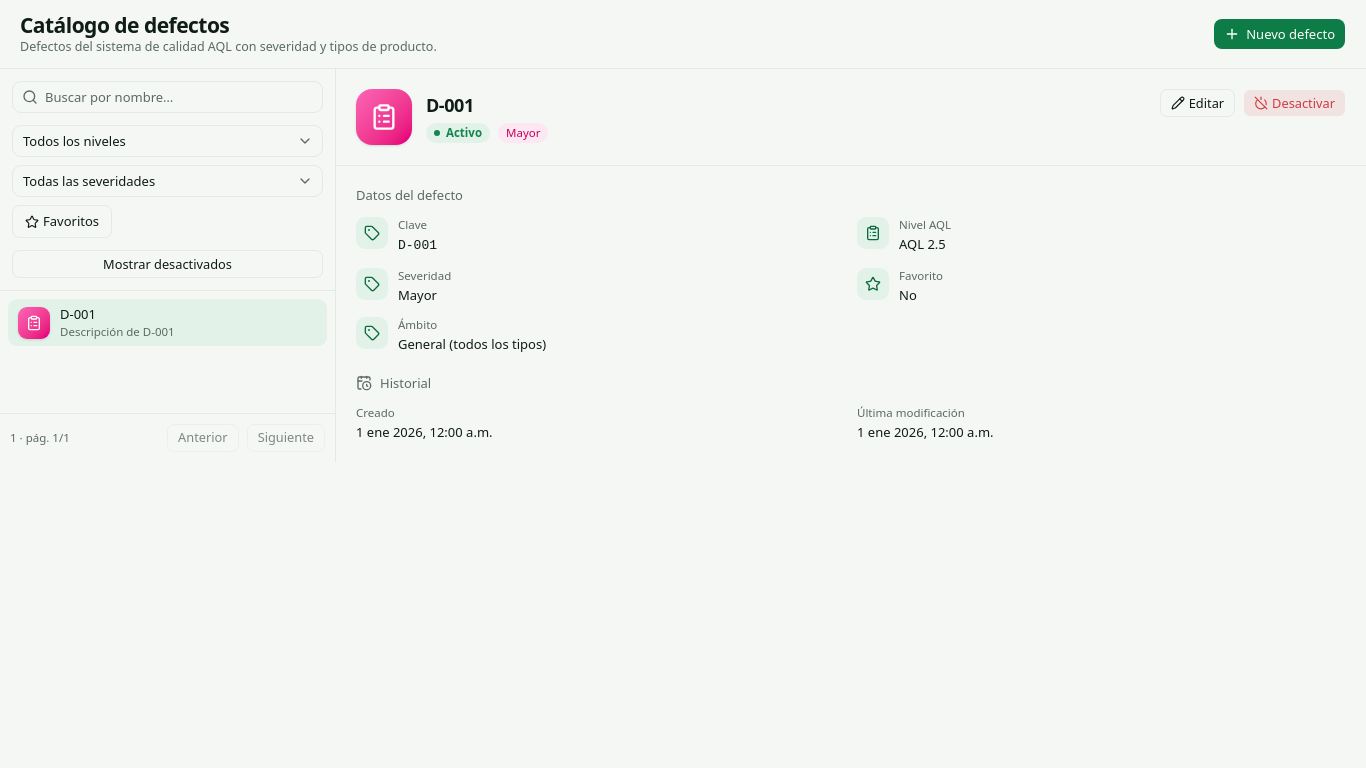
Scenario: DefectosPagina › el botón Nuevo defecto abre el diálogo
Click the button with test id "nuevo-defecto". click: point(1280, 34)
box: [1213,18,1346,50]
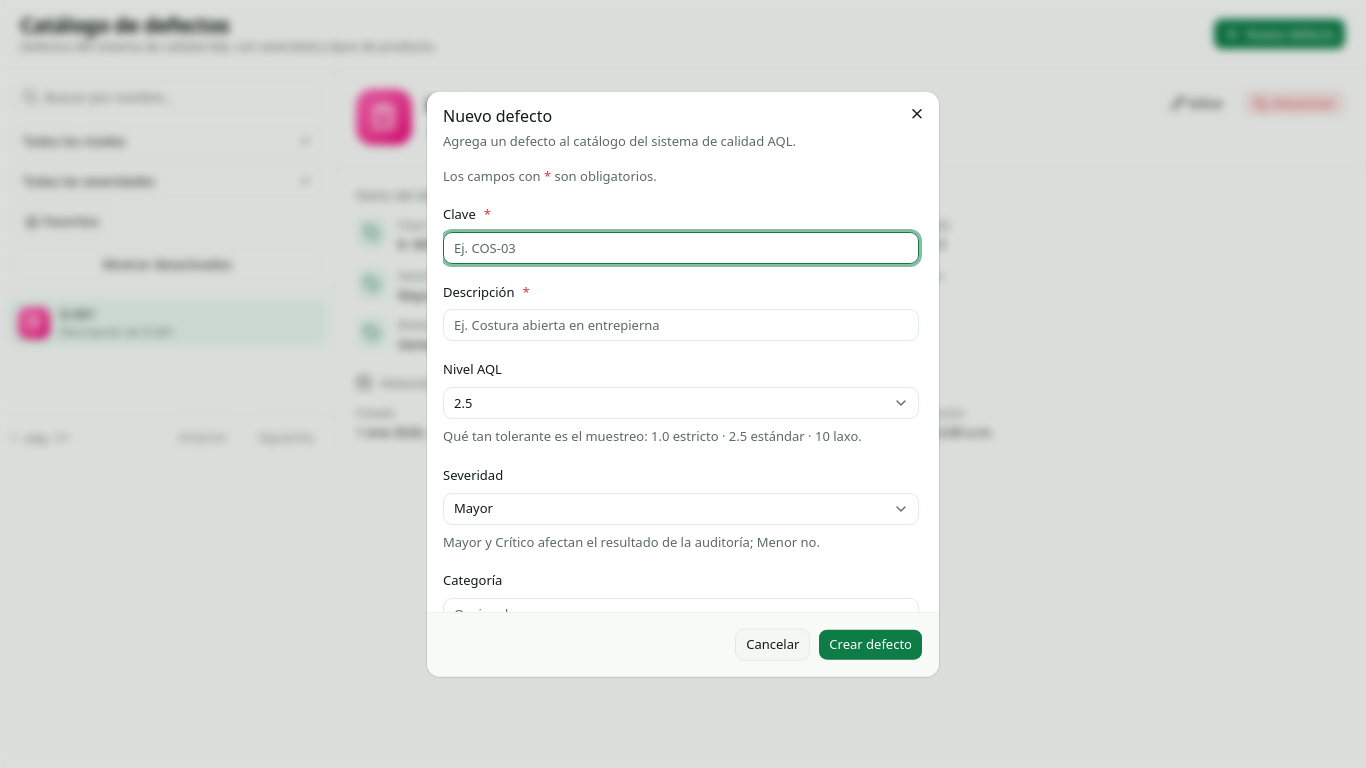
Now the button with test id "guardar-defecto" is shown, box [818,628,923,660]
